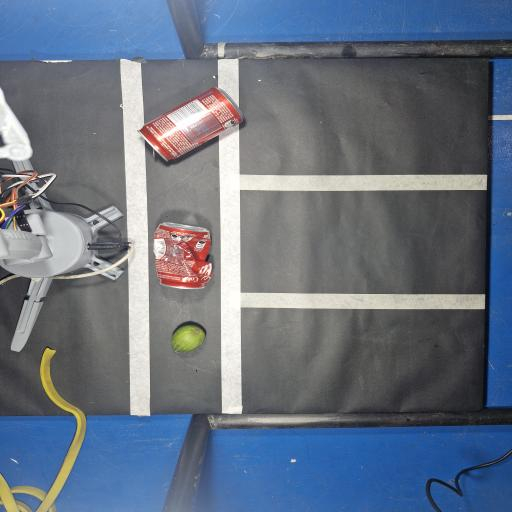higo: (171, 325, 205, 352)
lata: (138, 88, 243, 161)
lata_defectuoso: (154, 223, 212, 288)
